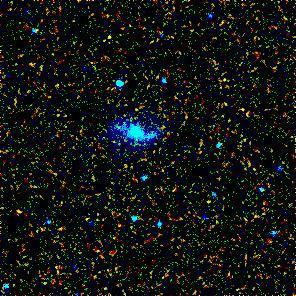star: (3, 193, 33, 223)
